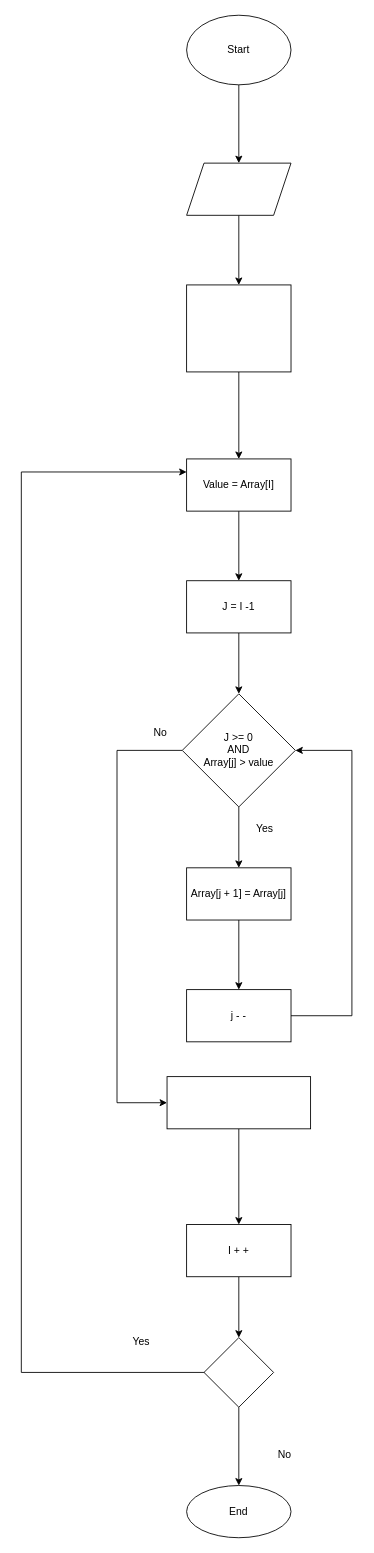
This 374x1553 diagram has some shape labels left out. The shapes that lost their labels are listed below. From the top down, each one's box as (x1, y1, x2, y2) in pixels, then its label:
(186, 162, 291, 215): Array
(186, 284, 291, 372): N = length of Array I = 1
(166, 1076, 311, 1129): Array[j + 1] = Value
(203, 1337, 274, 1407): I<N
